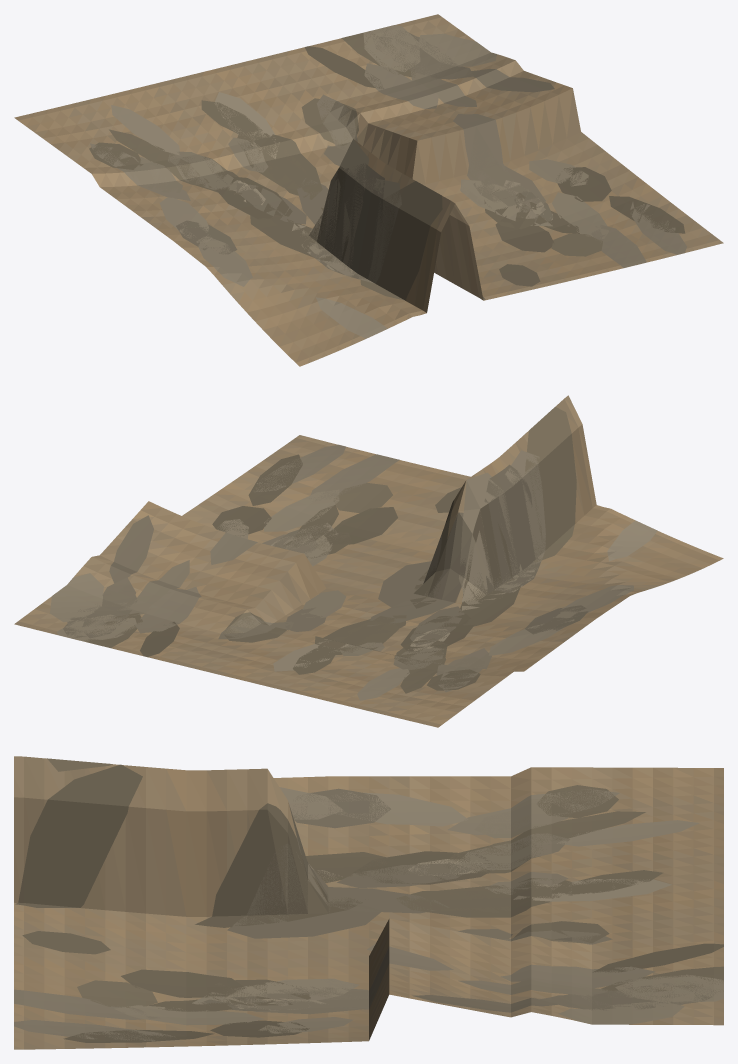
Rendered from dam_tailwater_bar.glb.
3 renders of one model, top to bottom at view 1: azimuth 30°, elevation 25°; view 2: azimuth 150°, elevation 25°; view 3: azimuth 270°, elevation 25°, orthographic. The views are drawn at different scales.
Visible parts, largest first — view 1: dam_tailwater_bar; view 2: dam_tailwater_bar; view 3: dam_tailwater_bar.
Part boxes in pixels (bbox=[...]): dam_tailwater_bar: bbox=[14, 14, 723, 366]; dam_tailwater_bar: bbox=[14, 395, 723, 727]; dam_tailwater_bar: bbox=[14, 756, 723, 1049].
Size of the model in its own units: 60 by 16.94 by 70.
